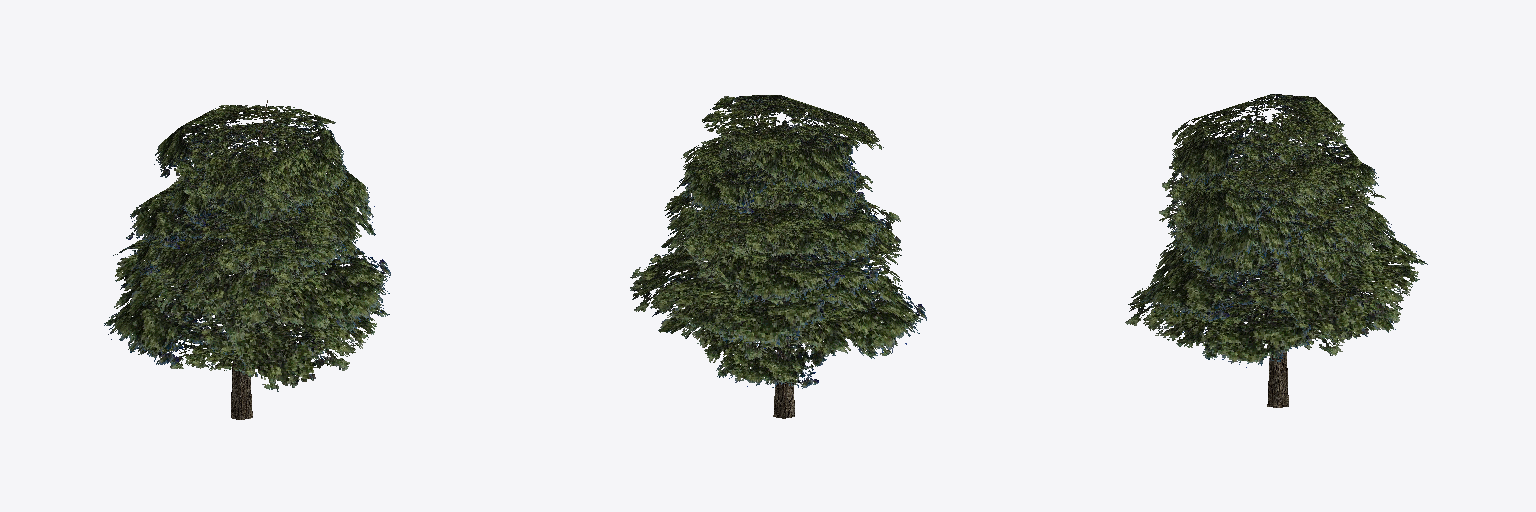
3 views of the same model, side by side, from view 1: azimuth 30°, elevation 25°; view 2: azimuth 150°, elevation 25°; view 3: azimuth 270°, elevation 25° (orthographic).
Parts seen in each view (by area): view 1: Line29, Line24, Line25, Line27, Line01, Line26, Line28, Line02, Line23, Line30, Cylinder07; view 2: Line25, Line29, Line27, Line01, Line24, Line28, Line23, Line26, Line02, Line30, Cylinder07; view 3: Line25, Line24, Line29, Line27, Line28, Line02, Line01, Line26, Cylinder07, Line30, Line23.
Boxes of the visible parts, x1=… form: Line29: x1=154, y1=105, x2=348, y2=206; Line24: x1=104, y1=252, x2=389, y2=391; Line25: x1=115, y1=226, x2=390, y2=342; Line27: x1=130, y1=175, x2=375, y2=255; Line01: x1=126, y1=204, x2=347, y2=285; Line26: x1=131, y1=206, x2=359, y2=306; Line28: x1=167, y1=122, x2=337, y2=227; Line02: x1=167, y1=154, x2=370, y2=222; Line23: x1=128, y1=292, x2=330, y2=371; Line30: x1=113, y1=105, x2=368, y2=388; Cylinder07: x1=231, y1=100, x2=267, y2=419; Line25: x1=630, y1=219, x2=902, y2=348; Line29: x1=702, y1=95, x2=883, y2=191; Line27: x1=664, y1=166, x2=885, y2=259; Line01: x1=667, y1=186, x2=901, y2=304; Line24: x1=650, y1=258, x2=926, y2=359; Line28: x1=681, y1=125, x2=857, y2=213; Line23: x1=679, y1=287, x2=903, y2=388; Line26: x1=661, y1=195, x2=900, y2=309; Line02: x1=693, y1=139, x2=856, y2=220; Line30: x1=667, y1=95, x2=897, y2=355; Cylinder07: x1=752, y1=100, x2=794, y2=418; Line25: x1=1141, y1=211, x2=1427, y2=340; Line24: x1=1125, y1=243, x2=1403, y2=367; Line29: x1=1172, y1=94, x2=1347, y2=185; Line27: x1=1159, y1=157, x2=1385, y2=270; Line28: x1=1185, y1=119, x2=1378, y2=203; Line02: x1=1162, y1=142, x2=1330, y2=234; Line01: x1=1167, y1=180, x2=1394, y2=277; Line26: x1=1160, y1=197, x2=1391, y2=285; Cylinder07: x1=1267, y1=109, x2=1288, y2=407; Line30: x1=1159, y1=94, x2=1316, y2=360; Line23: x1=1166, y1=266, x2=1395, y2=355.
Size of the model in its own units: 95.42 by 87.06 by 104.
Materials: 2 (2 with a texture image).